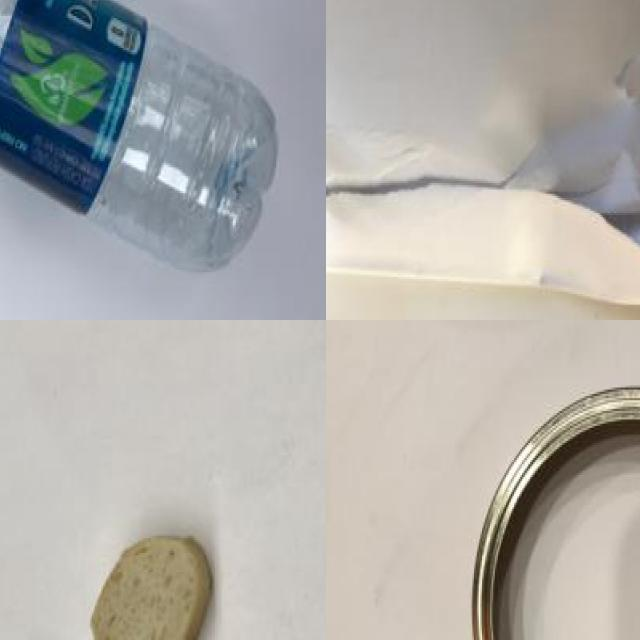compost: (79, 513, 224, 640)
paper: (326, 0, 640, 320)
plastic: (0, 0, 281, 296), (461, 362, 640, 640)
